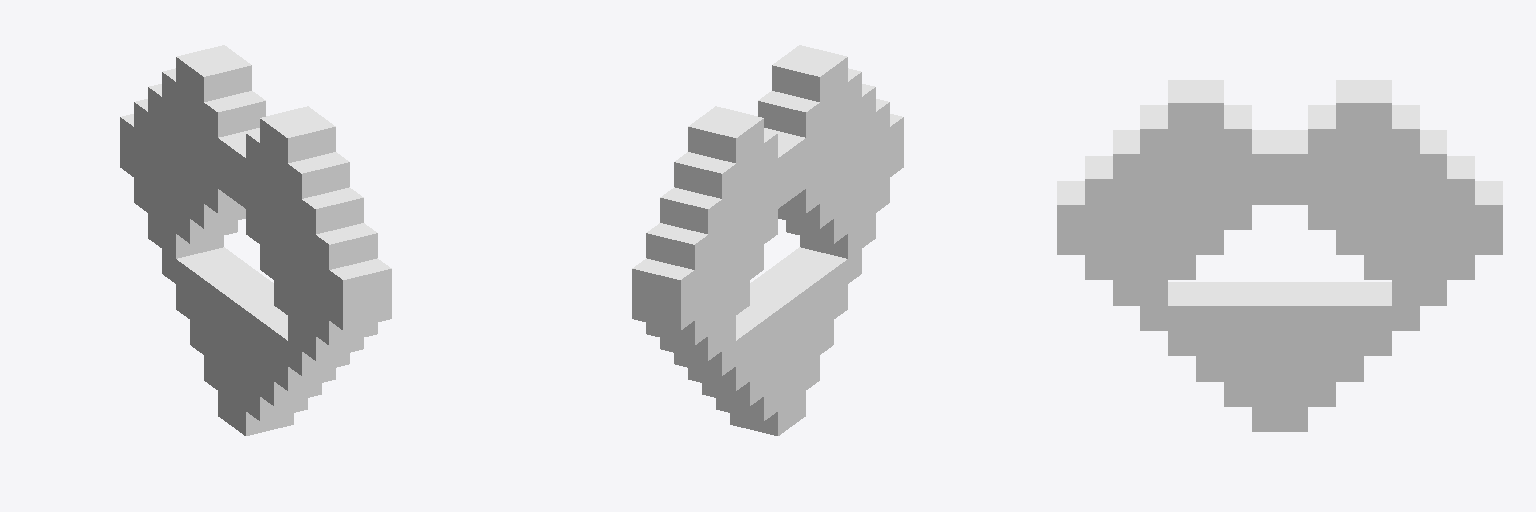
File: YolotlHeart.obj
3 renders of one model, left to right at view 1: azimuth 30°, elevation 25°; view 2: azimuth 150°, elevation 25°; view 3: azimuth 270°, elevation 25°, orthographic.
Visible parts, largest first — view 1: YolotlHeart; view 2: YolotlHeart; view 3: YolotlHeart.
Part boxes in pixels (left/top/right/bottom): YolotlHeart: left=120, top=45, right=391, bottom=435; YolotlHeart: left=632, top=45, right=903, bottom=435; YolotlHeart: left=1057, top=80, right=1502, bottom=431.
Size of the model in its own units: 2 by 13 by 16.